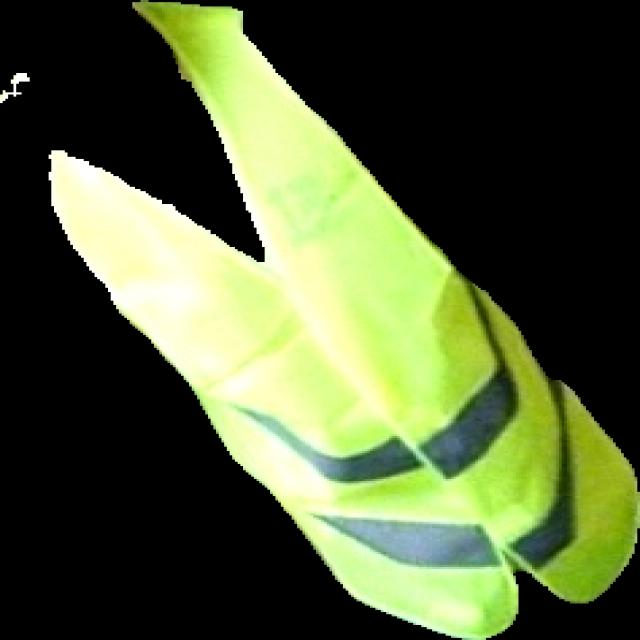Colete: (49, 0, 639, 639)
